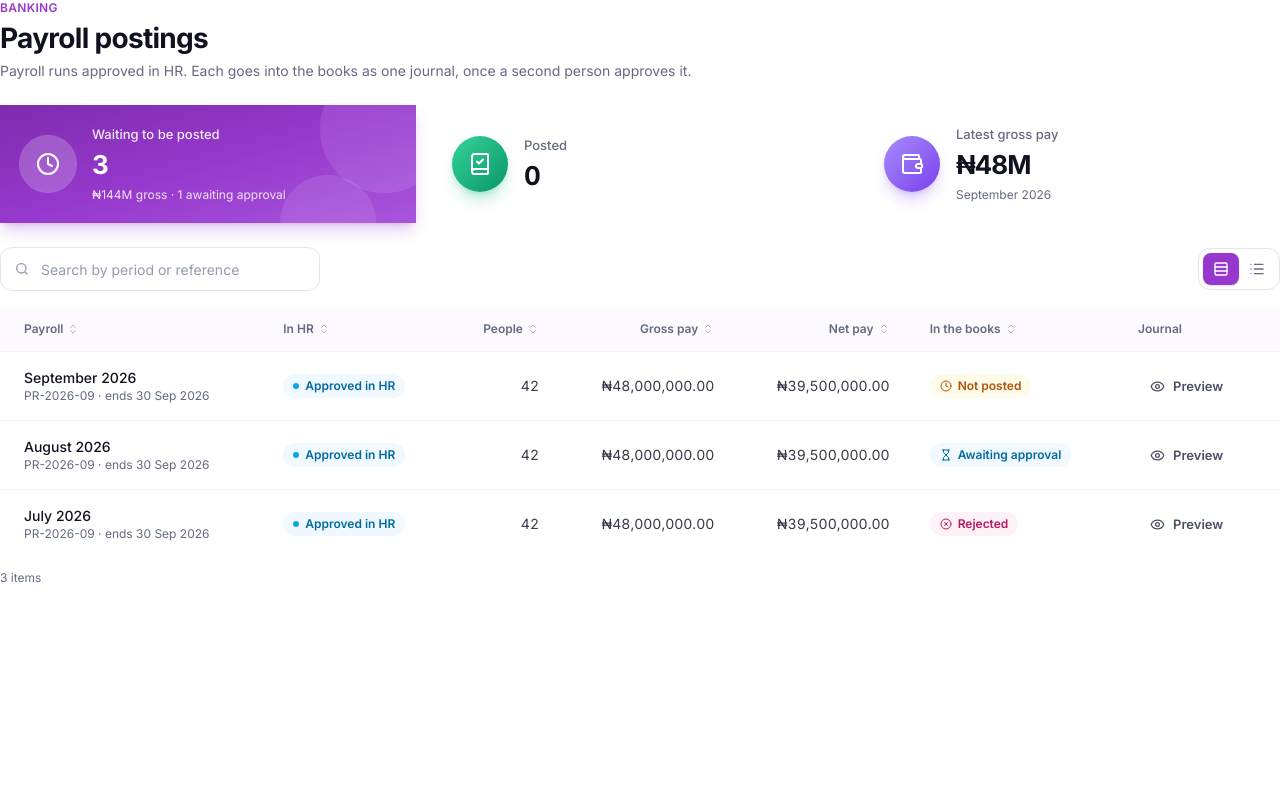
Test: PayrollPostingsBoard › marks runs awaiting approval or rejected, and offers to send a rejected one again
Expected: the text "Awaiting approval" is shown, [930,443,1071,467]
Expected: the text "Rejected" is shown, [930,512,1018,536]
Click the button with aria-label "Preview the journal for July 2026" at (1187, 524), box [1138,506,1235,542]
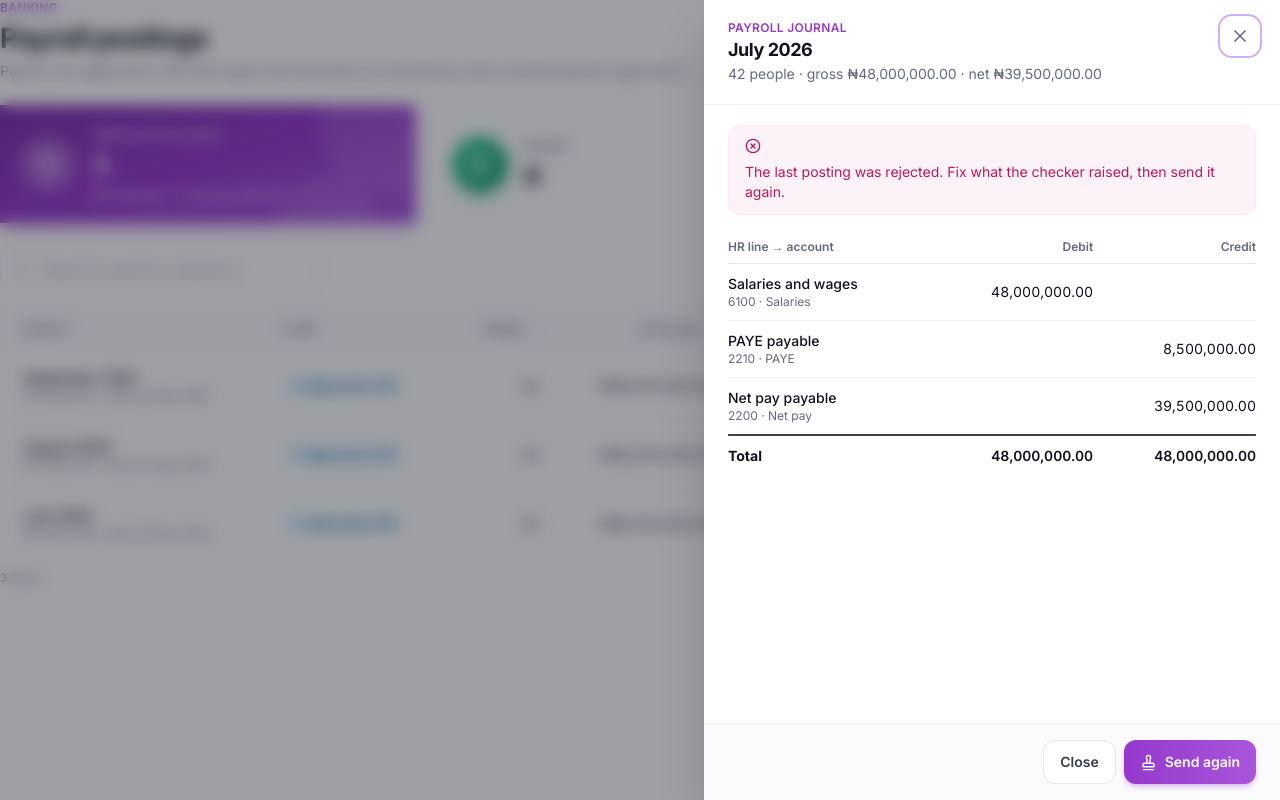
Result: the text "The last posting was rejected" is shown at [745,163,1215,200]
Result: the button "Send again" is enabled at [1124,740,1256,784]
